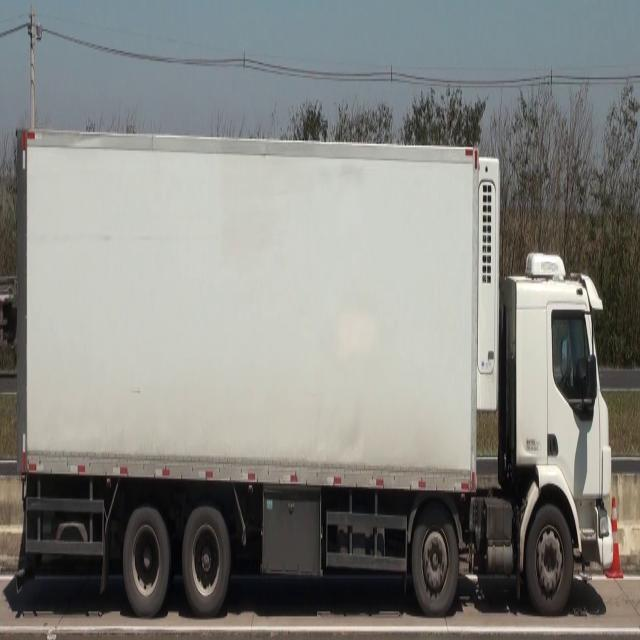-axle: (124, 500, 172, 613), (410, 508, 461, 614), (183, 504, 230, 614), (525, 506, 572, 614)
